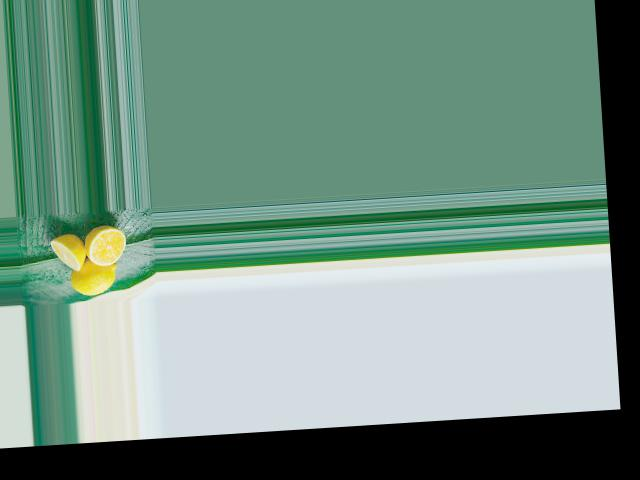lemon: (68, 254, 125, 296)
